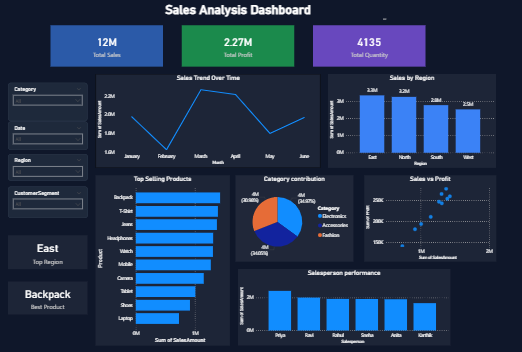

Layout of this report page (visuals, bound fields, positions):
{"tool":"powerbi","page":{"name":"Page 1","canvas":[1400,950],"ordinal":0},"visuals":[{"type":"textbox","title":"Sales Analysis Dashboard","box":[240,10.9,800,50],"z":0},{"type":"card","fields":{"Values":["sales_dataset.Total Sales"]},"box":[140,70,300,110],"z":1000},{"type":"card","fields":{"Values":["sales_dataset.Total Quantity"]},"box":[840,70,300,110],"z":2000},{"type":"card","fields":{"Values":["sales_dataset.Total Profit"]},"box":[490,70,300,110],"z":3000},{"type":"lineChart","title":"Sales Trend Over Time","fields":{"Category":["sales_dataset.Date.Variation.Date Hierarchy.Month"],"Y":["Sum(sales_dataset.SalesAmount)"]},"box":[260,200,600,250],"z":4000},{"type":"columnChart","title":"Sales by Region","fields":{"Category":["sales_dataset.Region"],"Y":["Sum(sales_dataset.SalesAmount)"]},"box":[880,200,448,250],"z":5000},{"type":"pieChart","title":"Category contribution","fields":{"Category":["sales_dataset.Category"],"Y":["Sum(sales_dataset.SalesAmount)"]},"box":[634,470,314,230],"z":6000},{"type":"barChart","title":"Top Selling Products","fields":{"Category":["sales_dataset.Product"],"Y":["Sum(sales_dataset.SalesAmount)"]},"box":[260,470,358,454],"z":7000},{"type":"clusteredColumnChart","title":"Salesperson performance","fields":{"Category":["sales_dataset.Salesperson"],"Y":["Sum(sales_dataset.SalesAmount)"]},"box":[640,720,566,204],"z":8000},{"type":"slicer","fields":{"Values":["sales_dataset.Date"]},"box":[27.1,325.7,212.9,75.7],"z":9000},{"type":"slicer","fields":{"Values":["sales_dataset.Region"]},"box":[27.1,414.3,212.9,71.4],"z":10000},{"type":"slicer","fields":{"Values":["sales_dataset.Category"]},"box":[28,224,212,102],"z":11000},{"type":"slicer","fields":{"Values":["sales_dataset.CustomerSegment"]},"box":[27.1,501.4,212.9,84.3],"z":12000},{"type":"scatterChart","title":"Sales vs Profit","fields":{"X":["Sum(sales_dataset.SalesAmount)"],"Y":["Sum(sales_dataset.Profit)"],"Category":["sales_dataset.Product"]},"box":[976,470,352,230],"z":13000},{"type":"card","fields":{"Values":["sales_dataset.Top Region"]},"box":[28,630,212,90],"z":14000},{"type":"card","fields":{"Values":["sales_dataset.Best Product"]},"box":[28,752,212,88],"z":15000}]}

Visuals, with their boxes in screenshot pixels (x1, y1, x2, y2), scaled from the page's 1400x950 canvas onto the 522x352 screenshot:
"Sales Analysis Dashboard" textbox: [89, 4, 388, 23]
card - sales_dataset.Total Sales: [52, 26, 164, 67]
card - sales_dataset.Total Quantity: [313, 26, 425, 67]
card - sales_dataset.Total Profit: [183, 26, 295, 67]
"Sales Trend Over Time" lineChart: [97, 74, 321, 167]
"Sales by Region" columnChart: [328, 74, 495, 167]
"Category contribution" pieChart: [236, 174, 353, 259]
"Top Selling Products" barChart: [97, 174, 230, 342]
"Salesperson performance" clusteredColumnChart: [239, 267, 450, 342]
slicer - sales_dataset.Date: [10, 121, 89, 149]
slicer - sales_dataset.Region: [10, 154, 89, 180]
slicer - sales_dataset.Category: [10, 83, 89, 121]
slicer - sales_dataset.CustomerSegment: [10, 186, 89, 217]
"Sales vs Profit" scatterChart: [364, 174, 495, 259]
card - sales_dataset.Top Region: [10, 233, 89, 267]
card - sales_dataset.Best Product: [10, 279, 89, 311]
